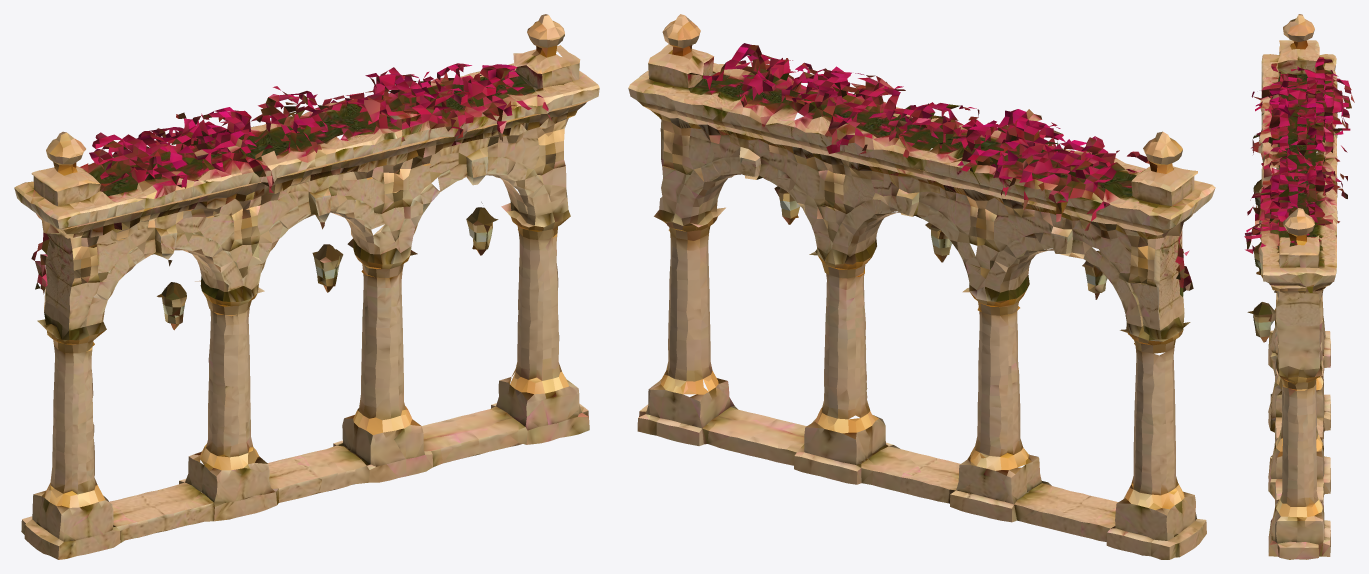
File: arcos.glb
3 views of the same model, side by side, from view 1: azimuth 30°, elevation 25°; view 2: azimuth 150°, elevation 25°; view 3: azimuth 270°, elevation 25° (orthographic). The views are drawn at different scales.
Visible parts, largest first — view 1: mesh_0; view 2: mesh_0; view 3: mesh_0.
Boxes of the visible parts, bbox=[...] form: mesh_0: bbox=[14, 14, 599, 559]; mesh_0: bbox=[628, 14, 1215, 559]; mesh_0: bbox=[1244, 14, 1354, 559].
Bounding box in the file's own units: 1.87 × 1.33 × 0.3956.
1 material, 1 textured.
